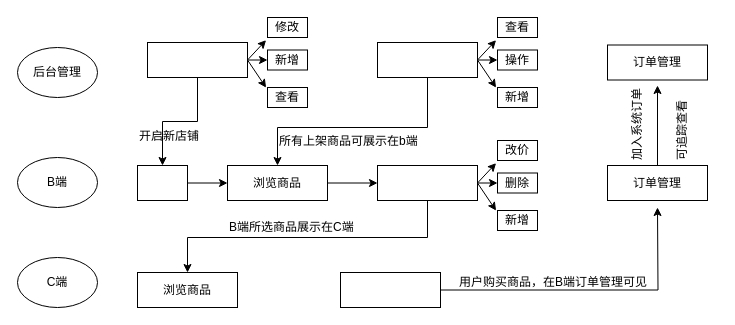
This 735x325 diagram has some shape labels left out. Here are the shapes that lost their labels. From the top down, the centre of each, then its label:
At point (197, 60): "用户管理功能".
At point (427, 60): "商品管理".
At point (162, 182): "登录".
At point (427, 182): "添加商品".
At point (390, 290): "选购商品".
